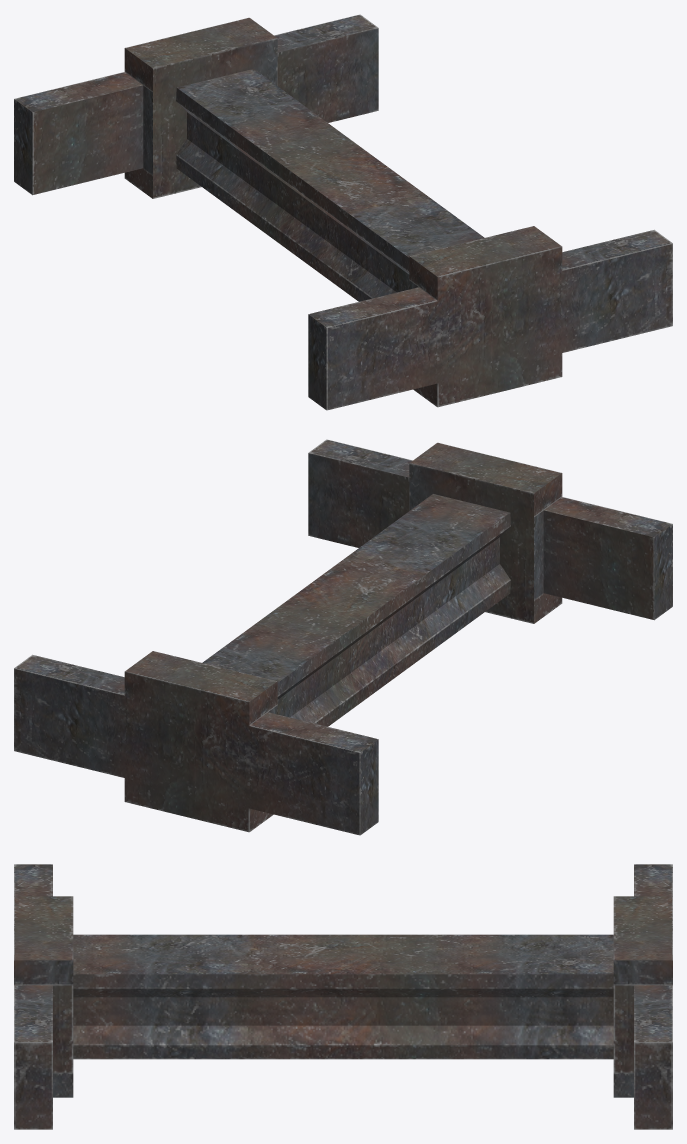
Rendered from rail_beam.gltf.
3 views of the same model, one above another, from view 1: azimuth 30°, elevation 25°; view 2: azimuth 150°, elevation 25°; view 3: azimuth 270°, elevation 25° (orthographic). The views are drawn at different scales.
Visible parts, largest first — view 1: Cube; view 2: Cube; view 3: Cube.
Boxes of the visible parts, left/top/right/bottom form: Cube: left=14, top=14, right=672, bottom=410; Cube: left=14, top=439, right=672, bottom=835; Cube: left=14, top=864, right=672, bottom=1129.
Bounding box in the file's own units: 0.6726 × 0.2422 × 1.05.
Materials: 1 (1 with a texture image).
